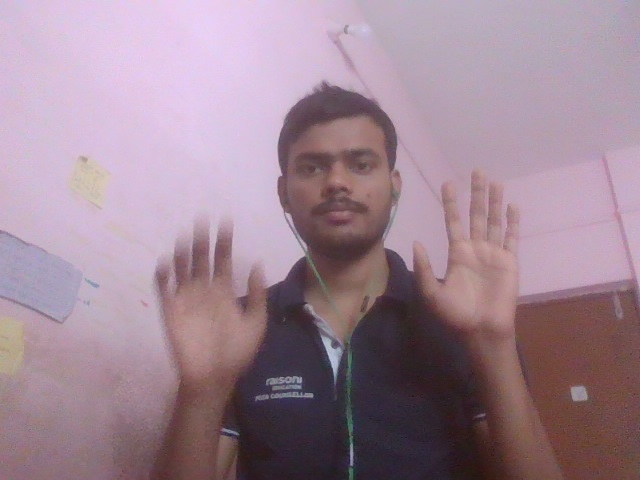Hello: (356, 172, 601, 376)
